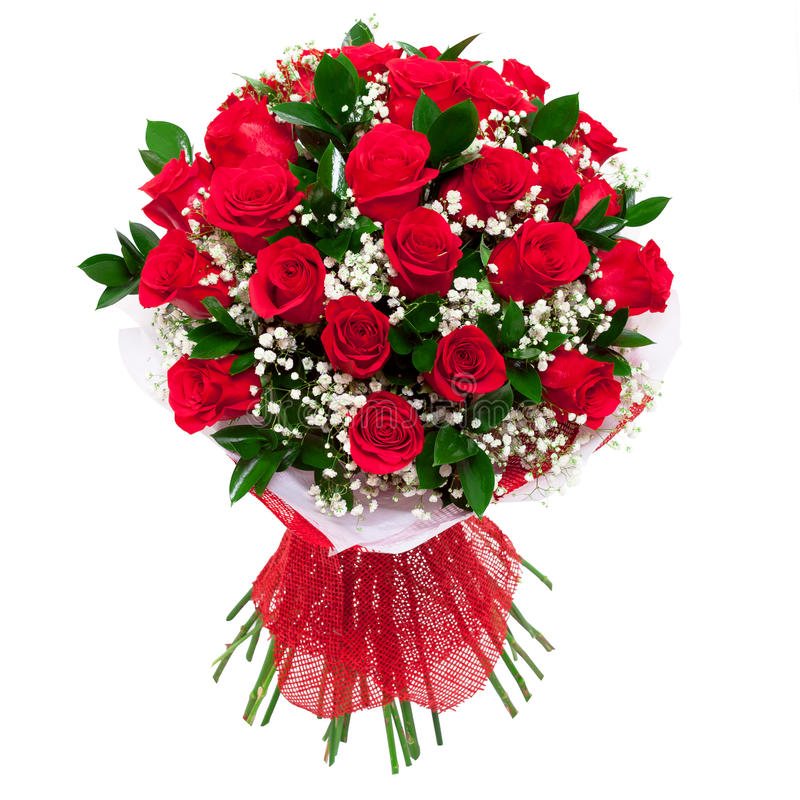RedRose: (129, 220, 230, 322), (156, 350, 261, 438), (342, 121, 434, 220), (492, 216, 589, 305), (545, 346, 631, 444), (338, 387, 427, 476), (208, 146, 301, 231), (592, 228, 679, 318), (381, 44, 465, 133), (376, 210, 468, 290), (233, 234, 319, 318), (203, 89, 292, 169), (428, 324, 505, 405), (317, 293, 388, 377), (132, 155, 211, 228), (458, 139, 533, 210), (512, 133, 583, 207), (458, 50, 526, 121), (561, 98, 619, 167), (569, 169, 634, 225), (258, 49, 323, 105), (323, 33, 391, 83), (498, 55, 557, 112)
